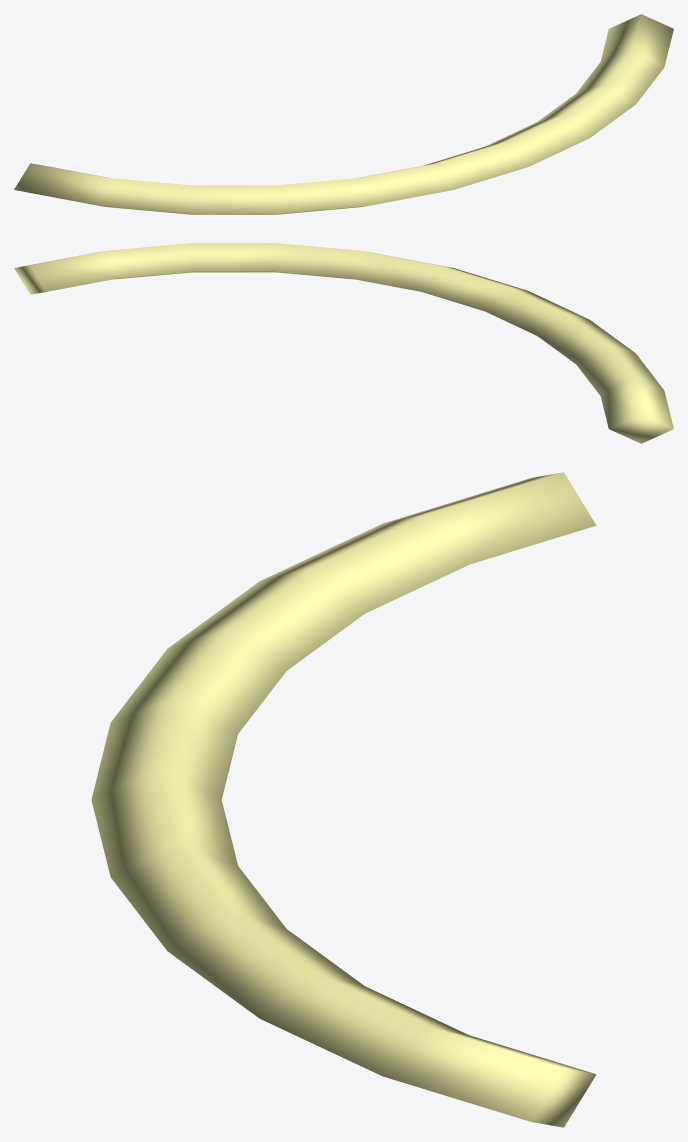
Rendered from slash.obj.
3 renders of one model, top to bottom at view 1: azimuth 30°, elevation 25°; view 2: azimuth 150°, elevation 25°; view 3: azimuth 270°, elevation 25°, orthographic. The views are drawn at different scales.
Visible parts, largest first — view 1: slash; view 2: slash; view 3: slash.
Part boxes in pixels (left/top/right/bottom): slash: left=14, top=14, right=673, bottom=214; slash: left=14, top=243, right=673, bottom=443; slash: left=91, top=472, right=596, bottom=1127.
Bounding box in the file's own units: 0.9353 × 0.04 × 0.31.
